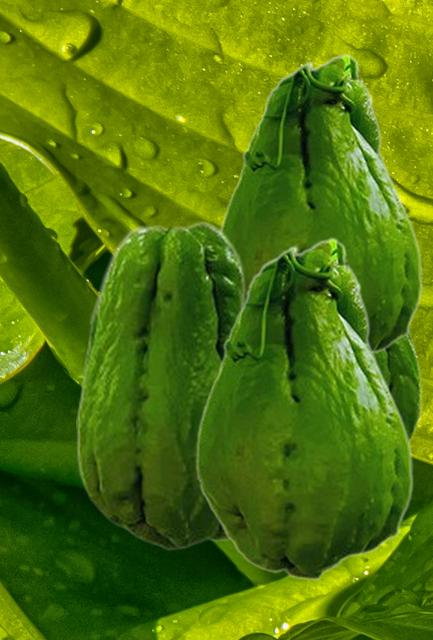sayote: (195, 237, 413, 580), (219, 53, 422, 356), (76, 220, 248, 550), (375, 326, 421, 443)
